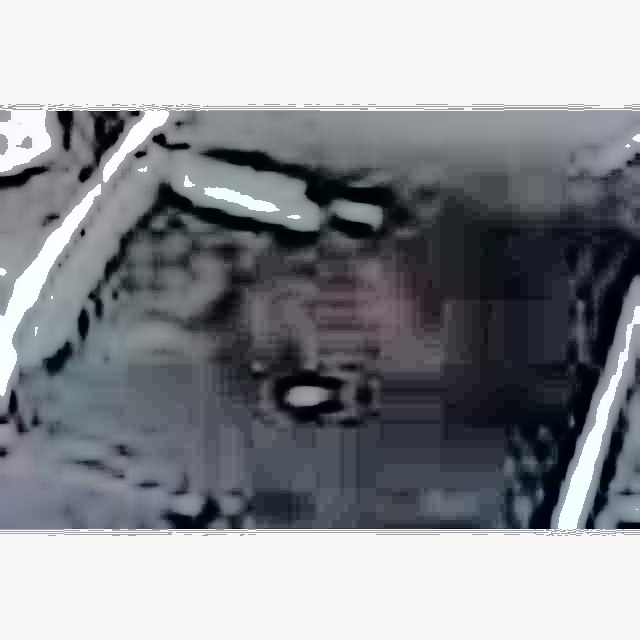tidak-pakai: (158, 198, 458, 451)
